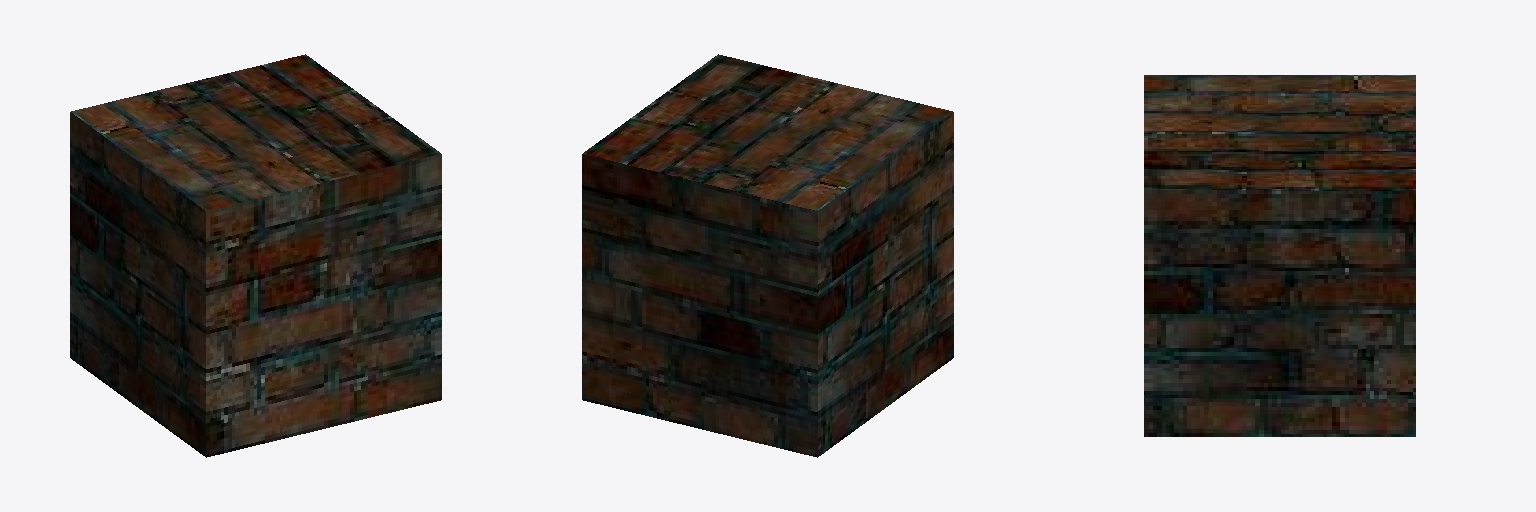
3 renders of one model, left to right at view 1: azimuth 30°, elevation 25°; view 2: azimuth 150°, elevation 25°; view 3: azimuth 270°, elevation 25°, orthographic.
Bounding box in the file's own units: 2 × 2 × 2.
1 materials, 1 textured.